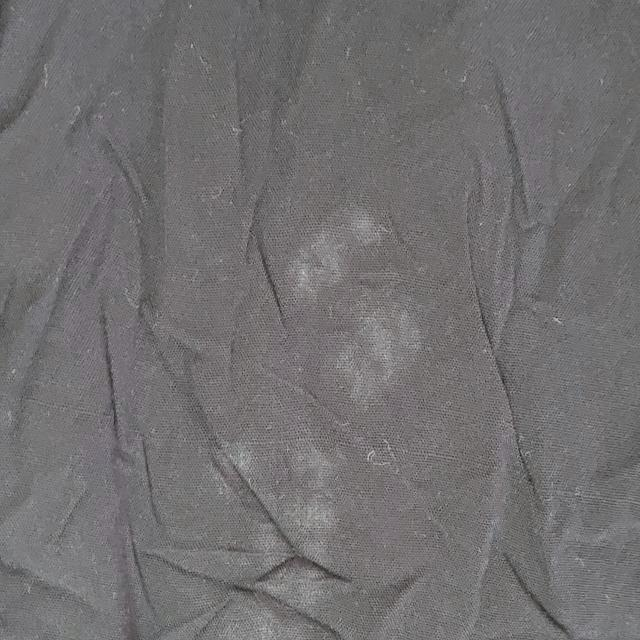stain: (199, 187, 426, 639), (78, 102, 162, 346)
